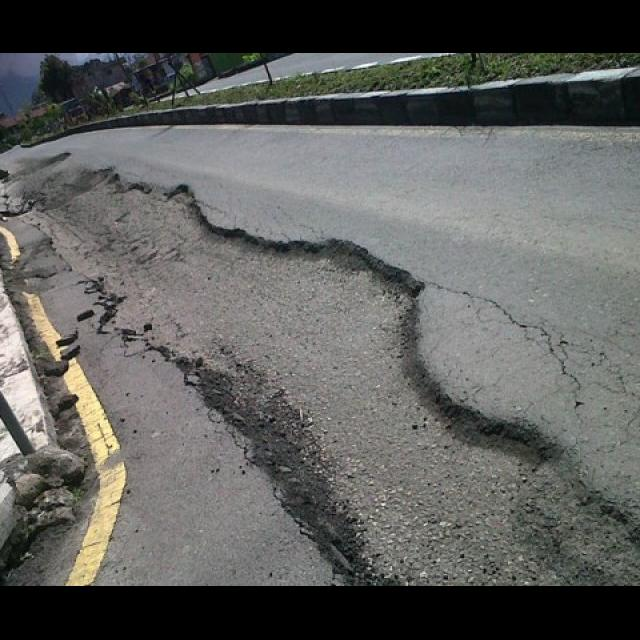lubang_kecil: (29, 169, 117, 212), (17, 149, 81, 179)
retak_memanjang: (408, 355, 640, 586), (147, 344, 364, 586), (124, 183, 430, 298), (457, 285, 581, 385)
